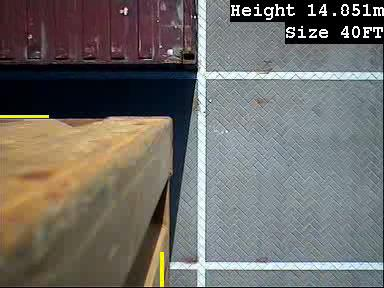groundmarker_2: (203, 164, 231, 200), (201, 17, 229, 53)
